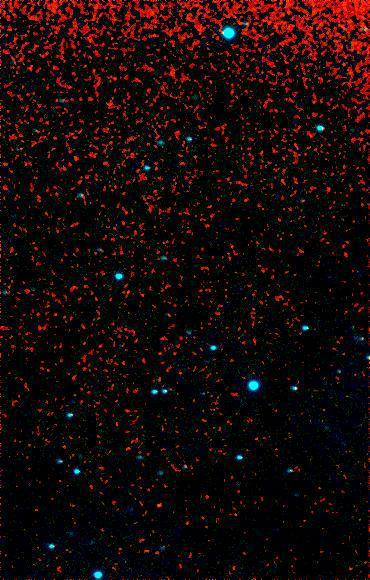star: (147, 488, 177, 518)
